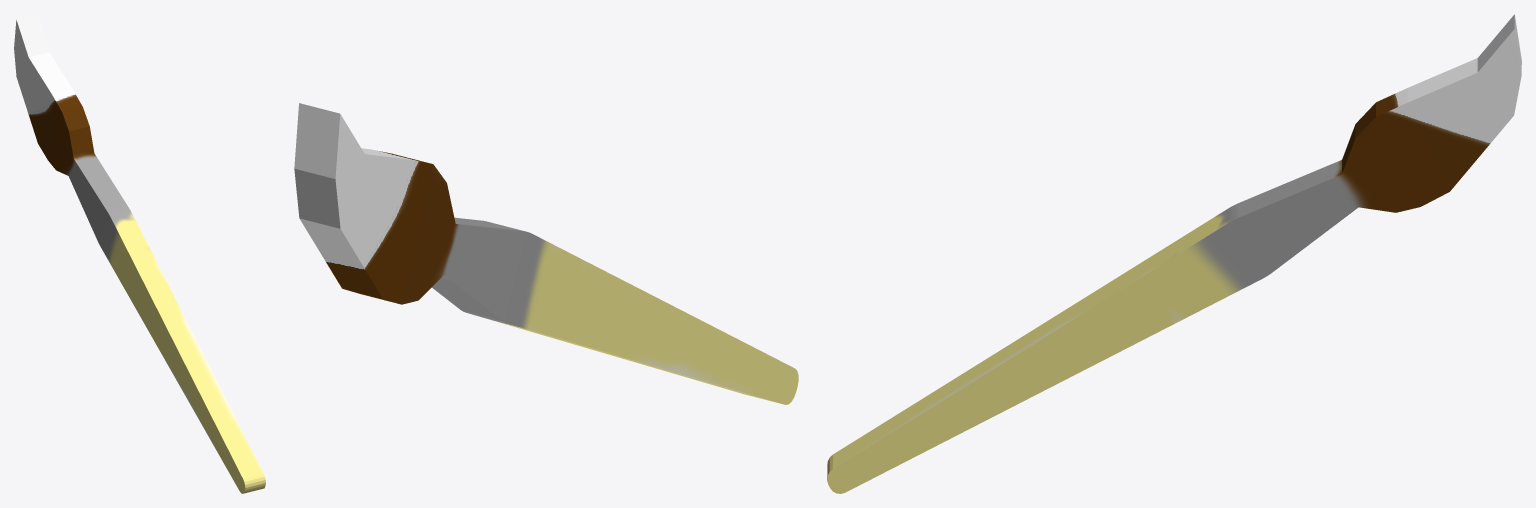
Rendered from paintbrush.glb.
The picture shows the model from 3 angles, left to right: view 1: azimuth 30°, elevation 25°; view 2: azimuth 150°, elevation 25°; view 3: azimuth 270°, elevation 25°; orthographic projection. The views are drawn at different scales.
Parts seen in each view (by area): view 1: Plane; view 2: Plane; view 3: Plane.
Boxes of the visible parts, left/top/right/bottom form: Plane: left=14, top=14, right=265, bottom=493; Plane: left=294, top=103, right=798, bottom=404; Plane: left=827, top=14, right=1521, bottom=493.
Bounding box in the file's own units: 0.2362 × 3.26 × 4.41.
Materials: 1 (1 with a texture image).
